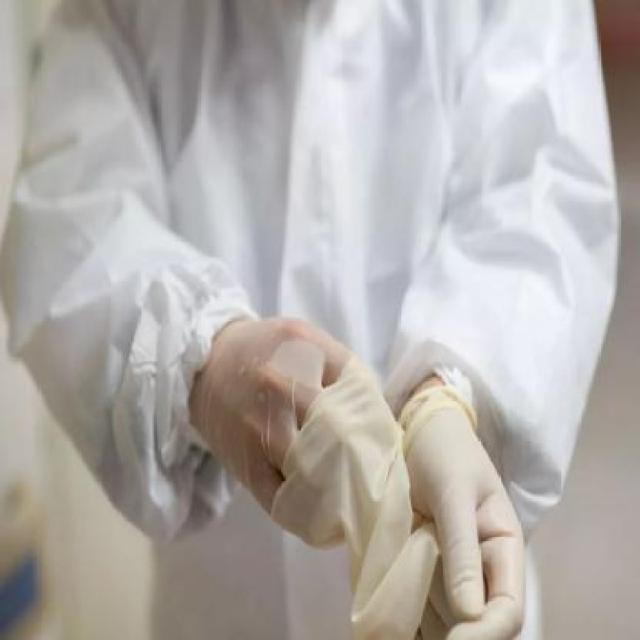hand_glove: (192, 308, 385, 560), (398, 387, 531, 639)
